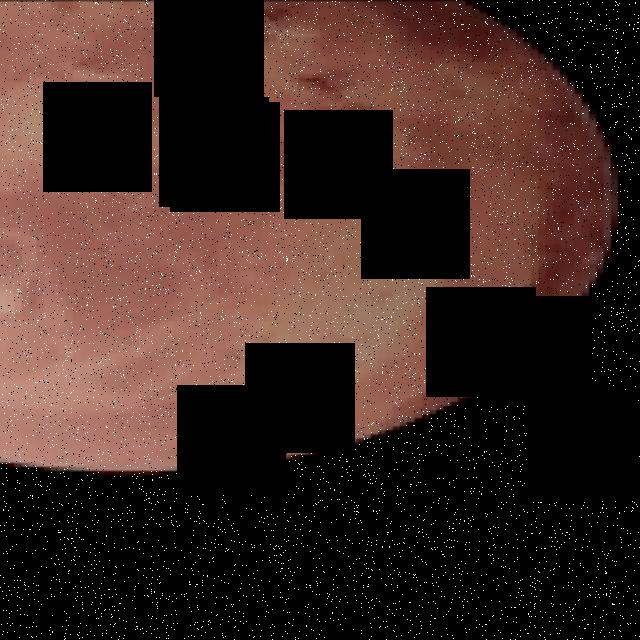Mars: (0, 0, 611, 478)
